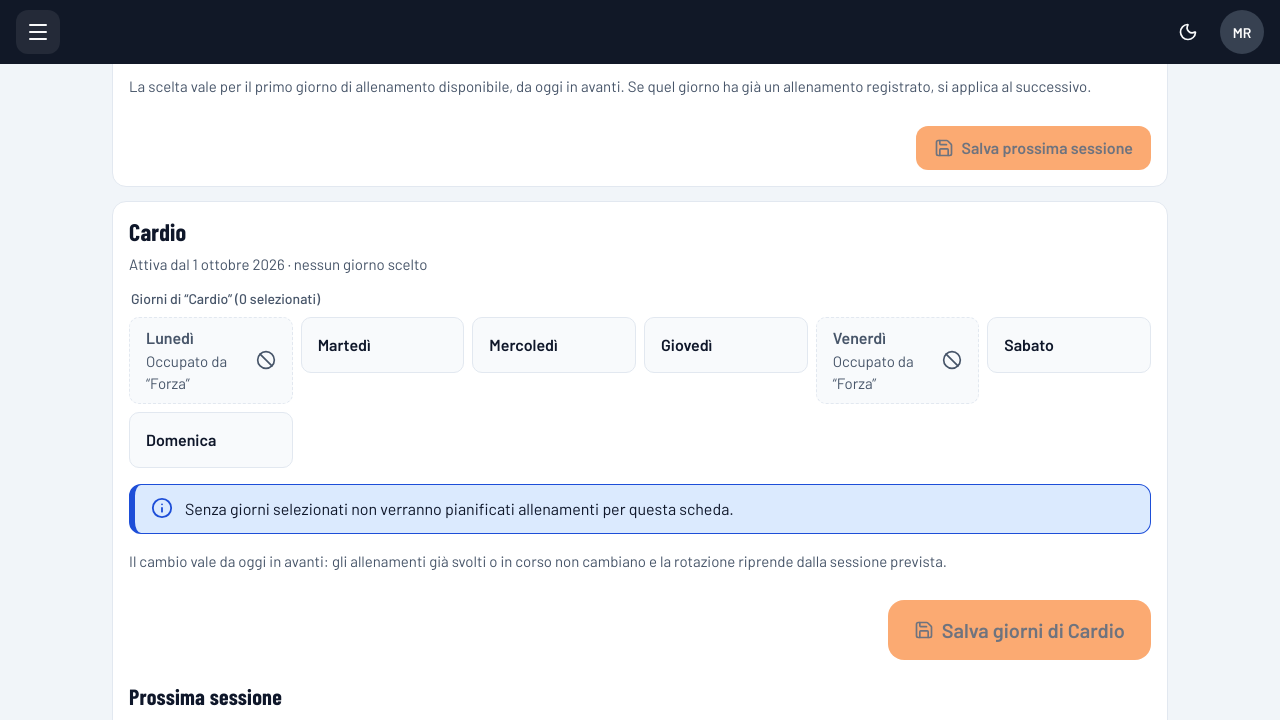
Test case: schedule page (several active plans) › explains a conflict found by the server with day and plan names
The width and height of the screenshot is (1280, 720).
(page scrolled)
What coordinates should you click on to do the following:
click the checkbox labelled "Mercoledì"
I would click on:
 (554, 360)
Its box is [472,317,636,404].
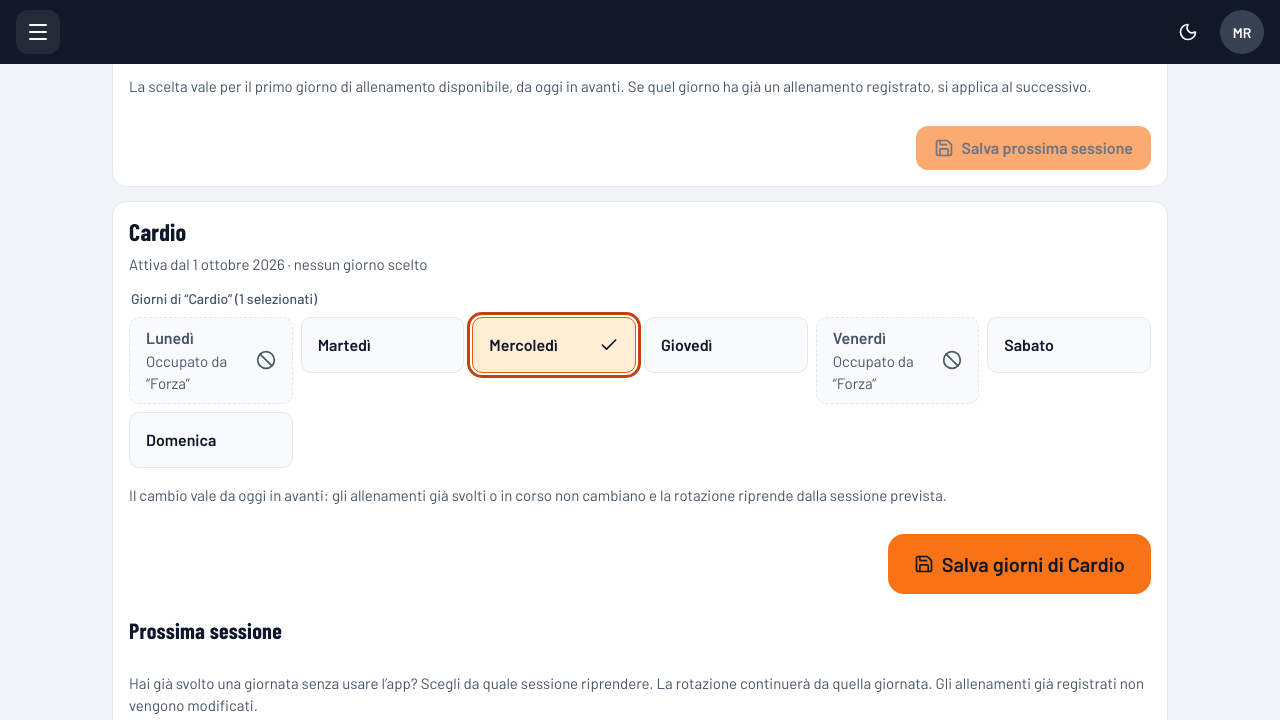
What coordinates should you click on to do the following:
click the button "Salva giorni di Cardio"
I would click on:
 (1019, 564)
Its box is [888,534,1151,594].
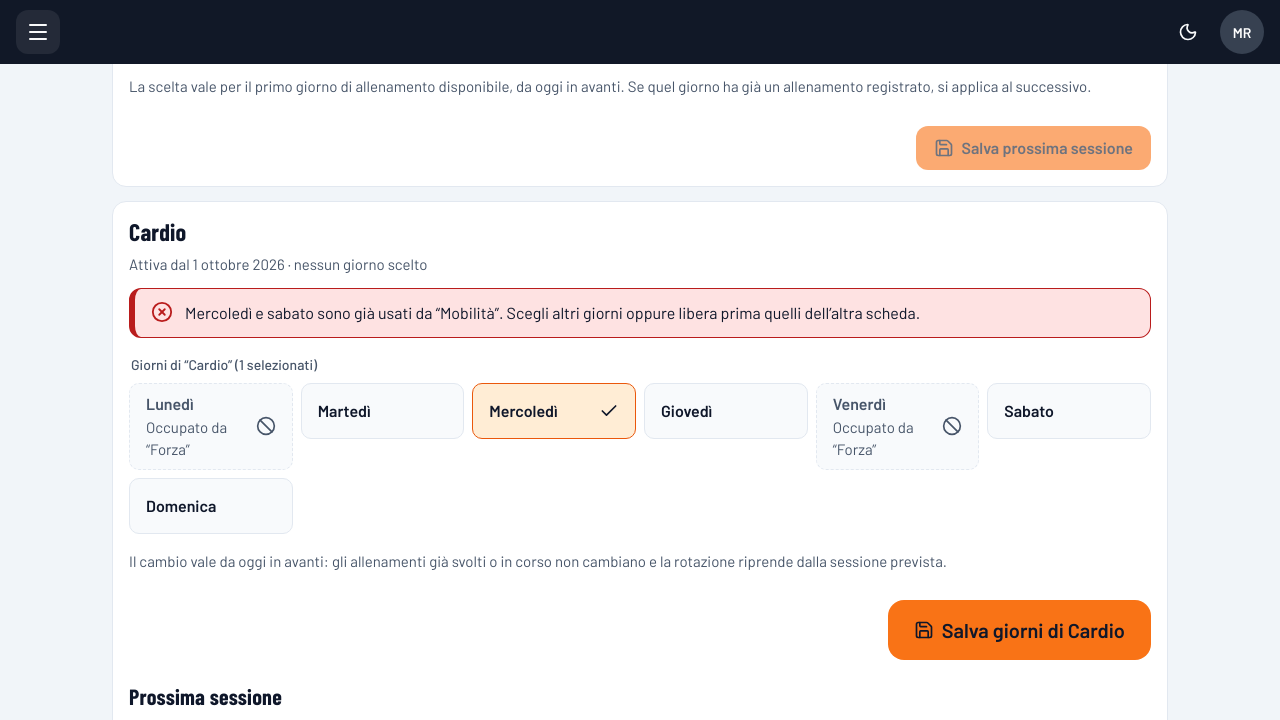
Check: the message shows "Mercoledì e sabato sono già usati da “Mobilità”. Scegli altri giorni oppure libera prima quelli dell’altra scheda.", box [185,303,920,322]
